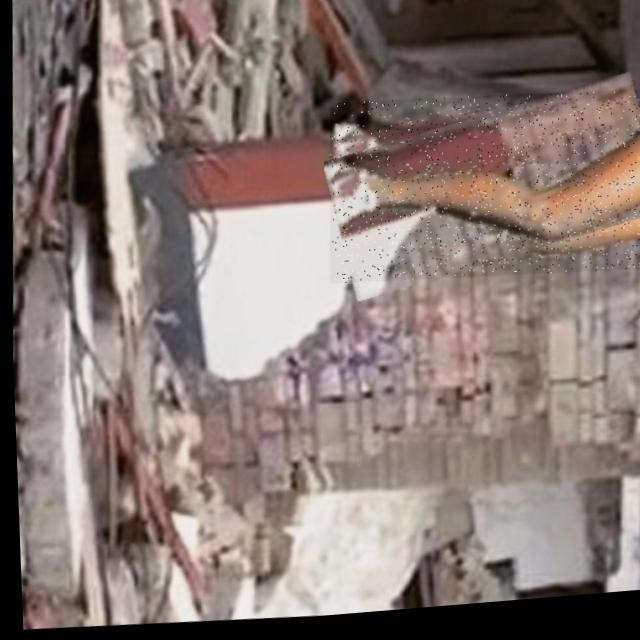Person in Rubble: (321, 88, 640, 300)
